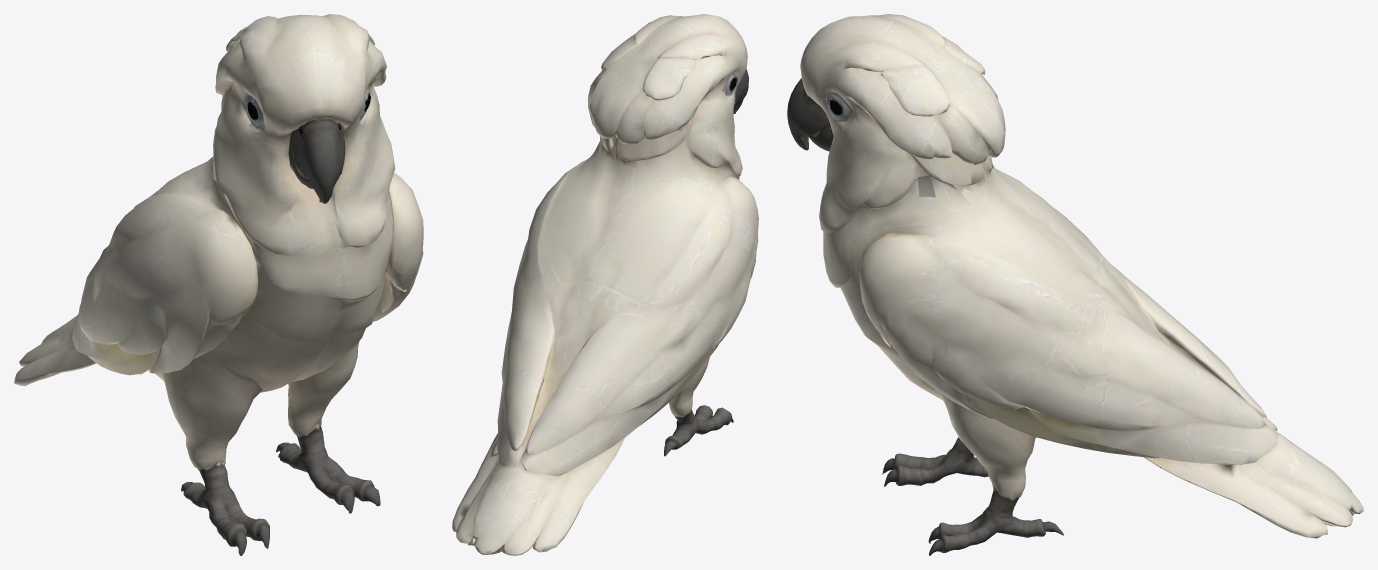
File: cockatoo-puti.glb
The picture shows the model from 3 angles, left to right: view 1: azimuth 30°, elevation 25°; view 2: azimuth 150°, elevation 25°; view 3: azimuth 270°, elevation 25°; orthographic projection. The views are drawn at different scales.
Parts seen in each view (by area): view 1: geometry_0; view 2: geometry_0; view 3: geometry_0.
Part boxes in pixels (x1,y1,x2,y2): geometry_0: (14, 14, 423, 555); geometry_0: (452, 14, 758, 555); geometry_0: (787, 14, 1363, 555).
Bounding box in the file's own units: 0.4629 × 0.8902 × 0.9526.
Materials: 1 (1 with a texture image).
